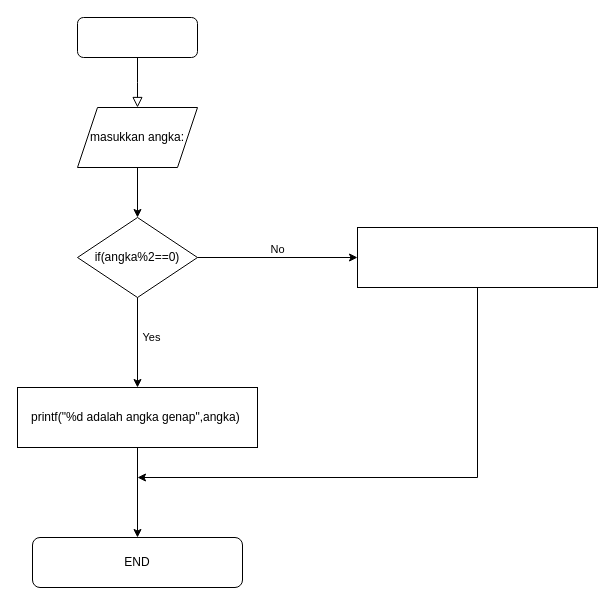
Image size: 615x605. Some labels were removed from this diagram. The centre of each missing label's shape, as x and y in pixels:
Lamp doesn't work: (x=137, y=37)
printf("%d adalah angka ganjil",angka): (x=477, y=257)
